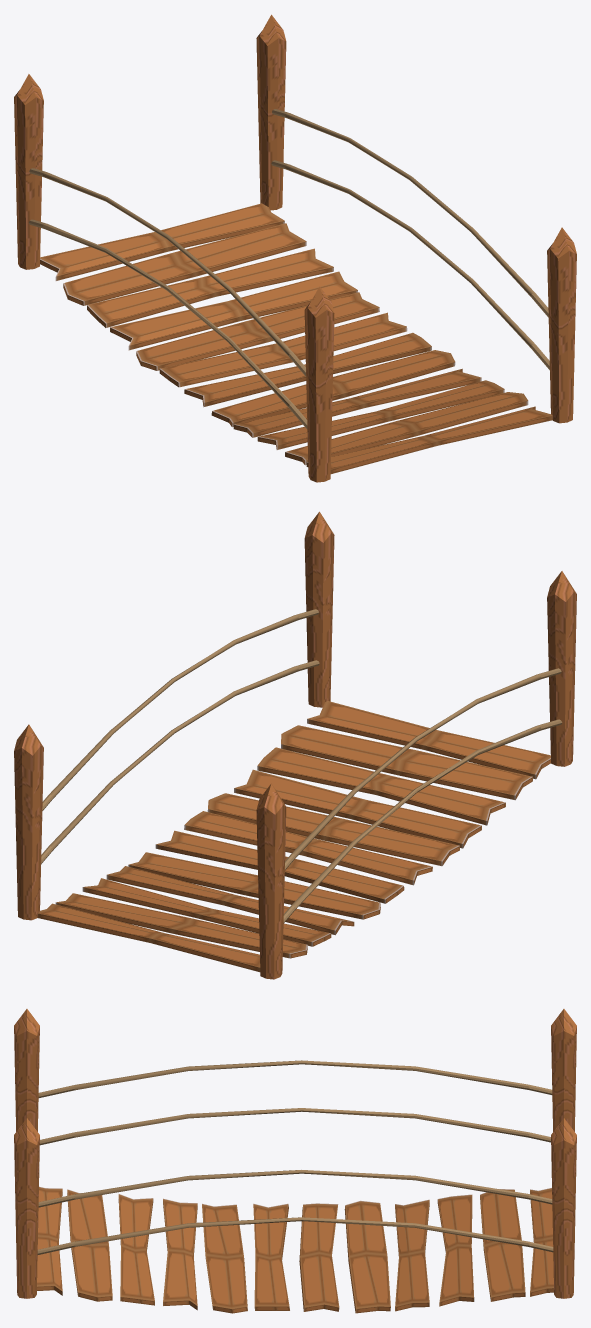
The model's file is Puente_Textured.FBX.
3 renders of one model, top to bottom at view 1: azimuth 30°, elevation 25°; view 2: azimuth 150°, elevation 25°; view 3: azimuth 270°, elevation 25°, orthographic. The views are drawn at different scales.
Visible parts, largest first — view 1: Puente, Postes, Cuerda; view 2: Puente, Postes, Cuerda; view 3: Puente, Postes, Cuerda.
Boxes of the visible parts, box(x1,y1,x2,y2) form: Puente: box(40, 203, 552, 474); Postes: box(14, 14, 576, 482); Cuerda: box(28, 109, 549, 429); Puente: box(37, 701, 550, 972); Postes: box(14, 511, 576, 979); Cuerda: box(41, 609, 562, 923); Puente: box(37, 1186, 553, 1313); Postes: box(14, 1009, 576, 1298); Cuerda: box(37, 1060, 553, 1254).
Size of the model in its own units: 574 by 440 by 1136.
